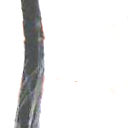crackTip: (14, 1, 56, 128)
